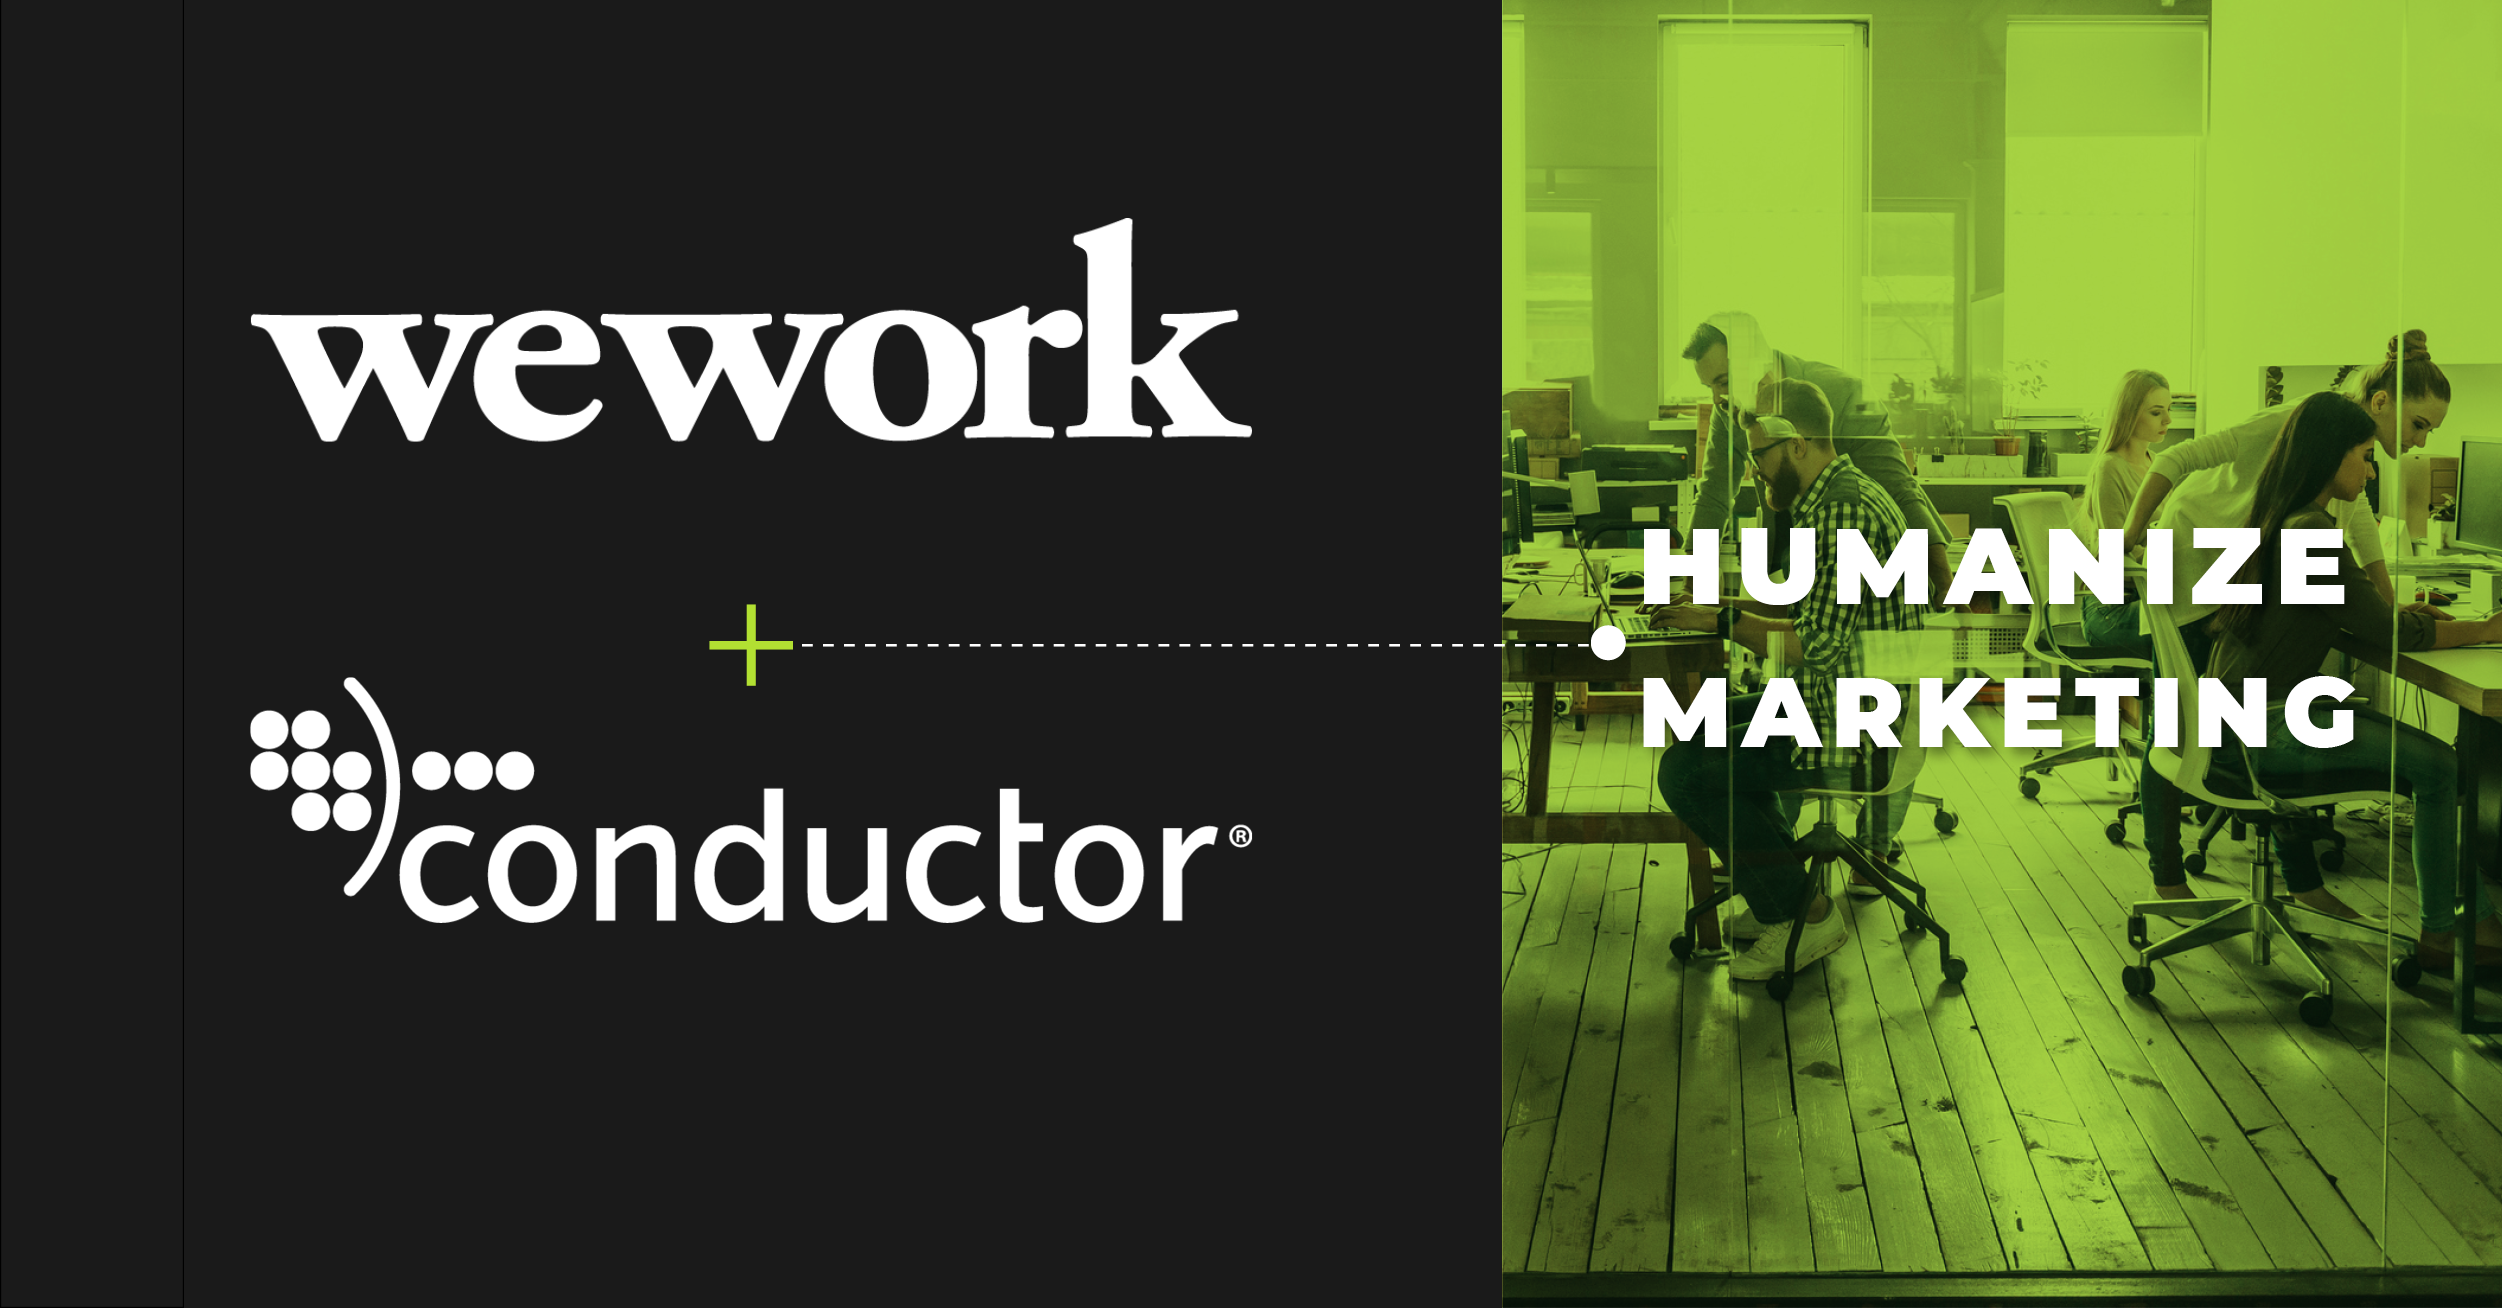wework: (230, 204, 1269, 460)
